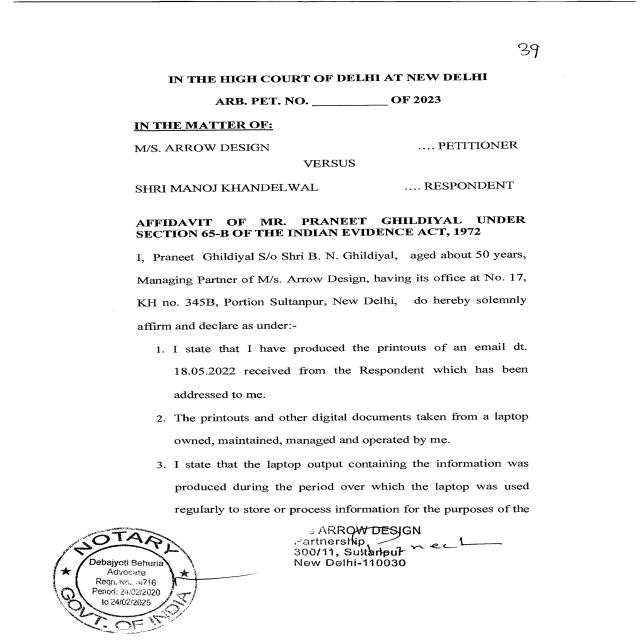page-number: (488, 5, 635, 139)
